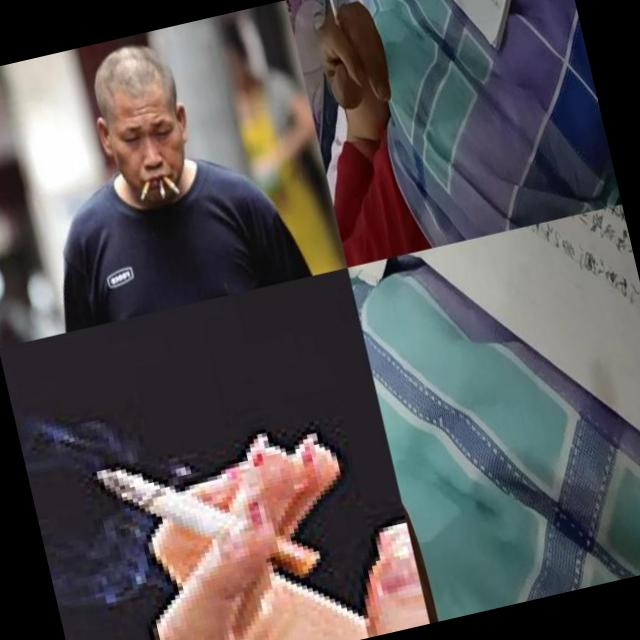cigarette: (90, 423, 324, 618), (327, 0, 346, 41), (136, 178, 154, 202), (163, 173, 181, 197), (158, 178, 166, 198)
